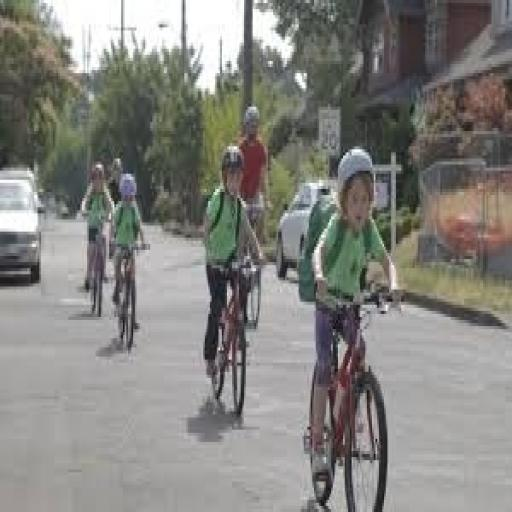cycling: (305, 143, 403, 503), (200, 143, 266, 381), (108, 168, 150, 350), (79, 158, 116, 317)
